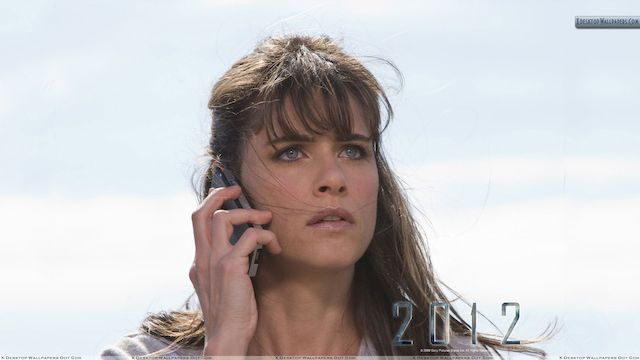phone: (196, 163, 265, 278)
talk: (185, 119, 382, 326)
